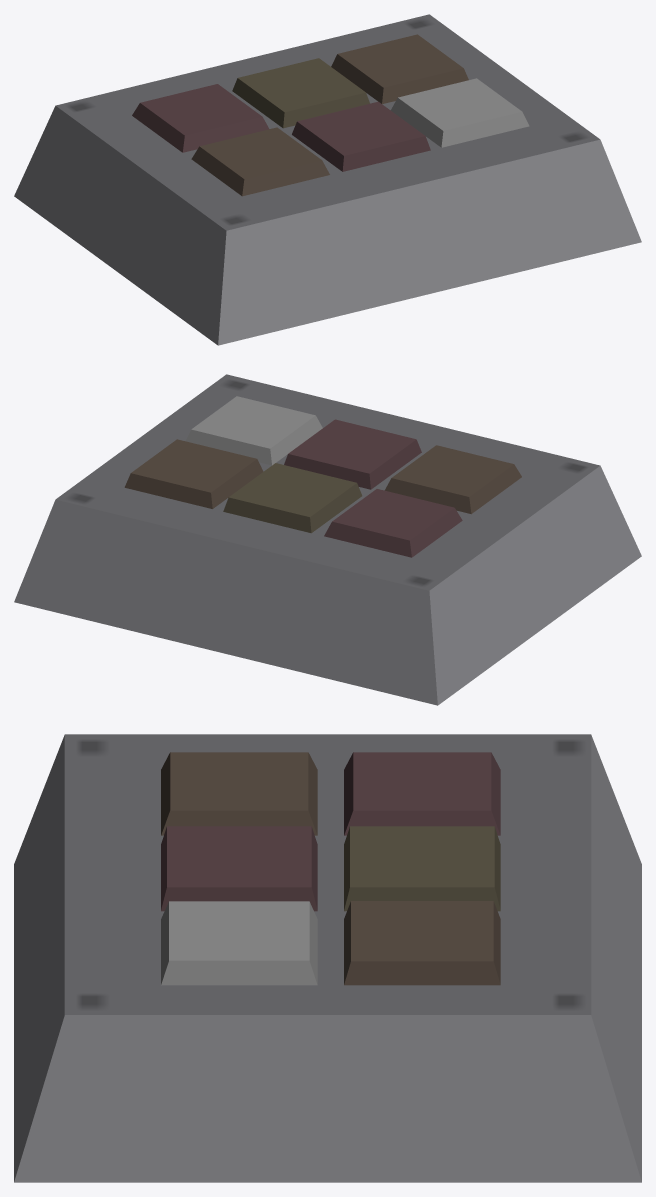
The model's file is SM_Prop_Buttons_02.glb.
The picture shows the model from 3 angles, top to bottom: view 1: azimuth 30°, elevation 25°; view 2: azimuth 150°, elevation 25°; view 3: azimuth 270°, elevation 25°; orthographic projection. The views are drawn at different scales.
Parts seen in each view (by area): view 1: SM_Prop_Buttons_02; view 2: SM_Prop_Buttons_02; view 3: SM_Prop_Buttons_02.
Part boxes in pixels (box(x1,y1,x2,y2)): SM_Prop_Buttons_02: box(14, 14, 641, 345); SM_Prop_Buttons_02: box(14, 374, 641, 705); SM_Prop_Buttons_02: box(14, 734, 641, 1182).
Bounding box in the file's own units: 0.1812 × 0.0451 × 0.1511.
1 material, 1 textured.
